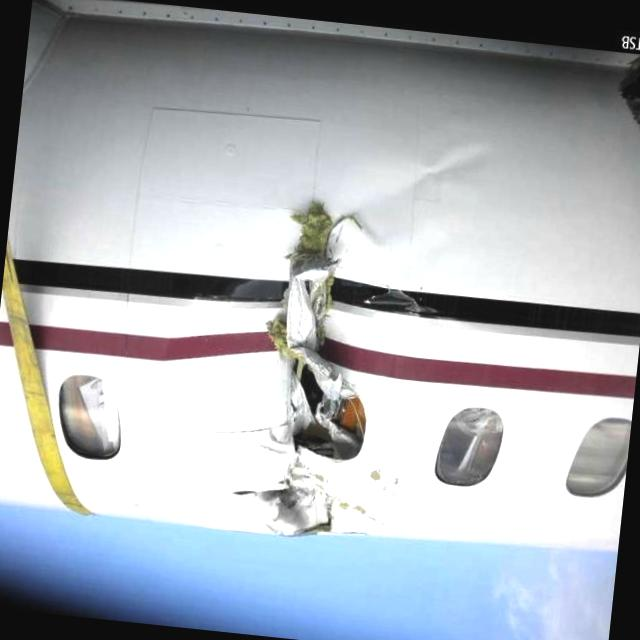crack: (214, 184, 395, 562)
dent: (160, 243, 282, 420), (402, 135, 494, 213)
